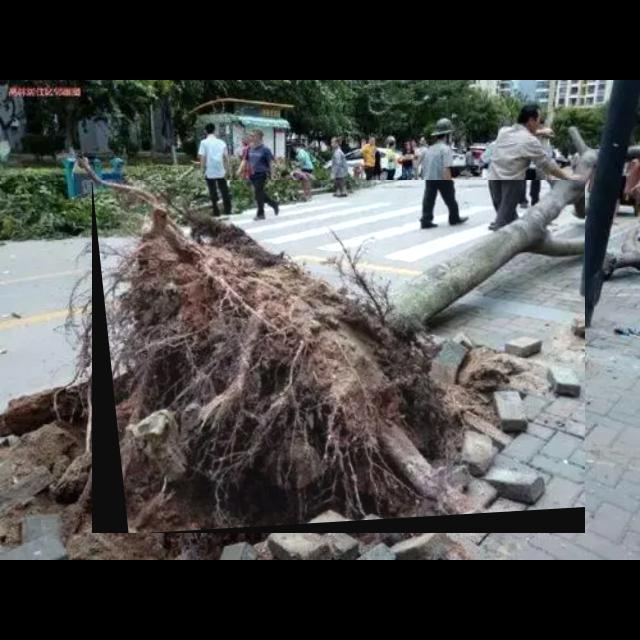Fallen Tree: (92, 180, 586, 534)
